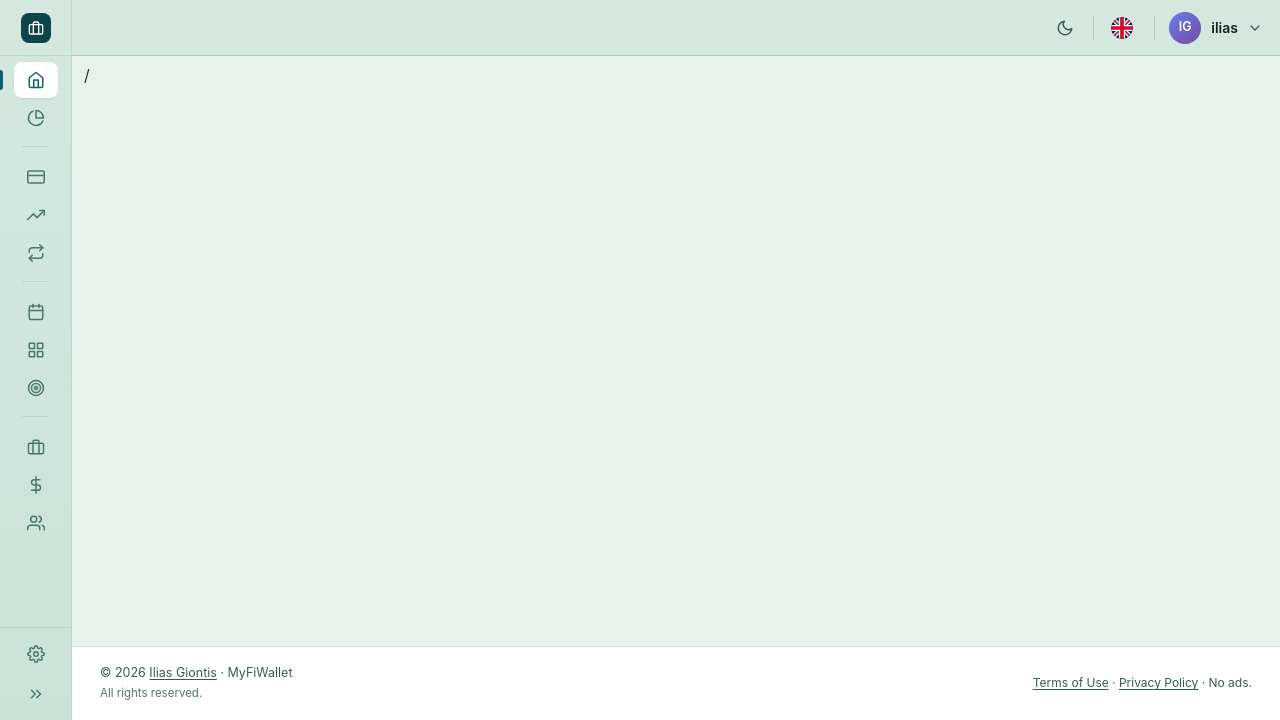
it: an item with pages under it › on the collapsed rail closes on Esc without going anywhere
Click the 1st button named "Transactions" at [36, 177], box [14,159,58,195]
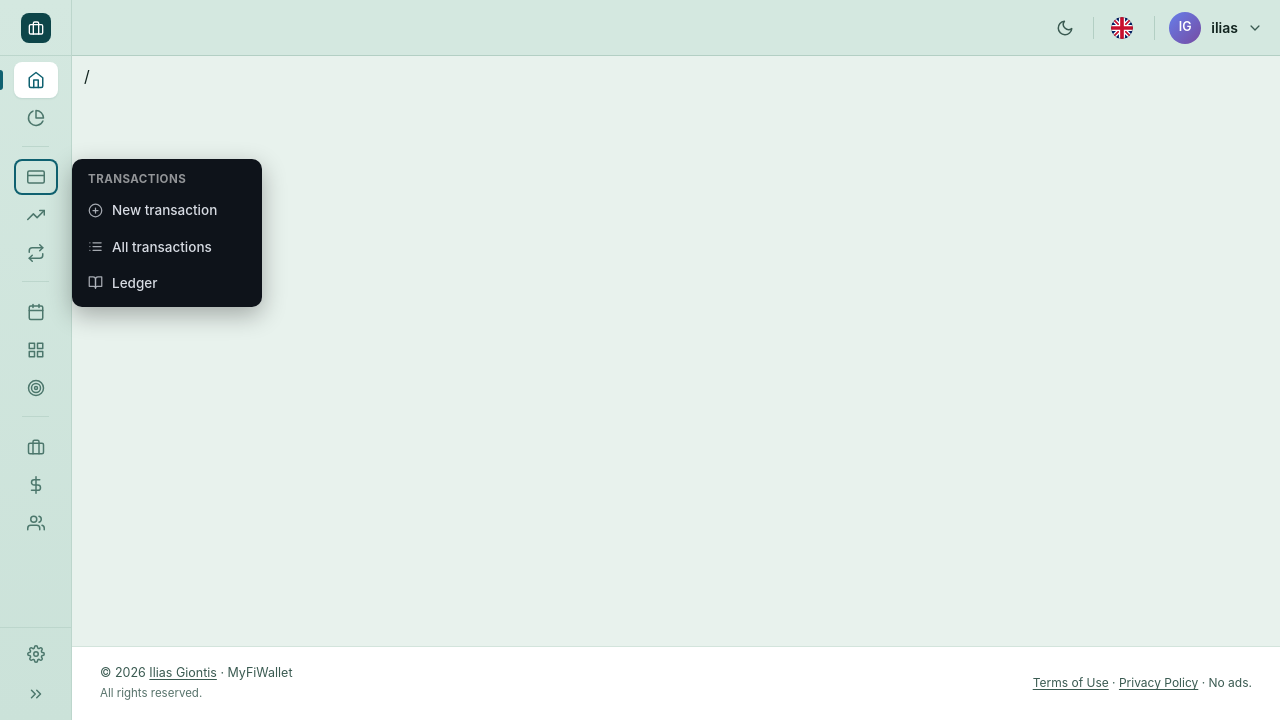
Now the element with class "sidebar-flyout" is shown, box [72,159,262,307]
Press Escape
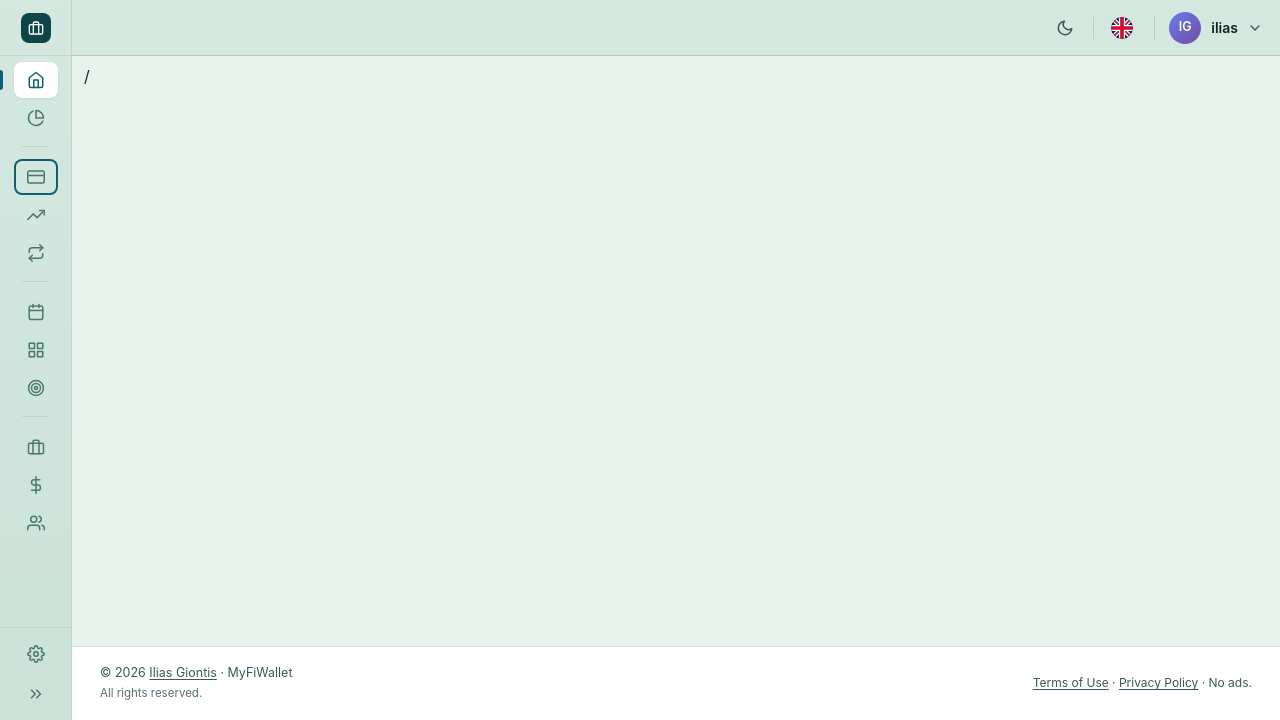
Expected: the text with test id "path" reads "/", [84,66,90,86]
Now the element with class "sidebar-flyout" is gone
